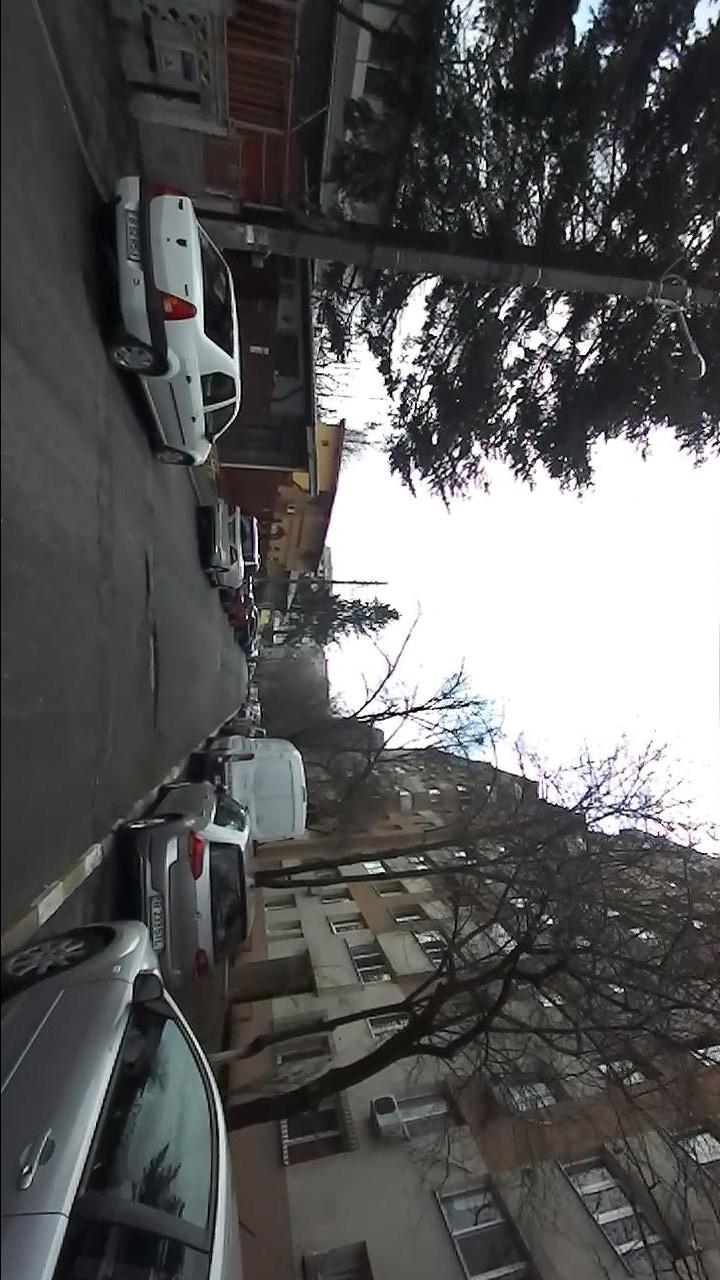pothole: (142, 627, 163, 735), (140, 551, 153, 608)
